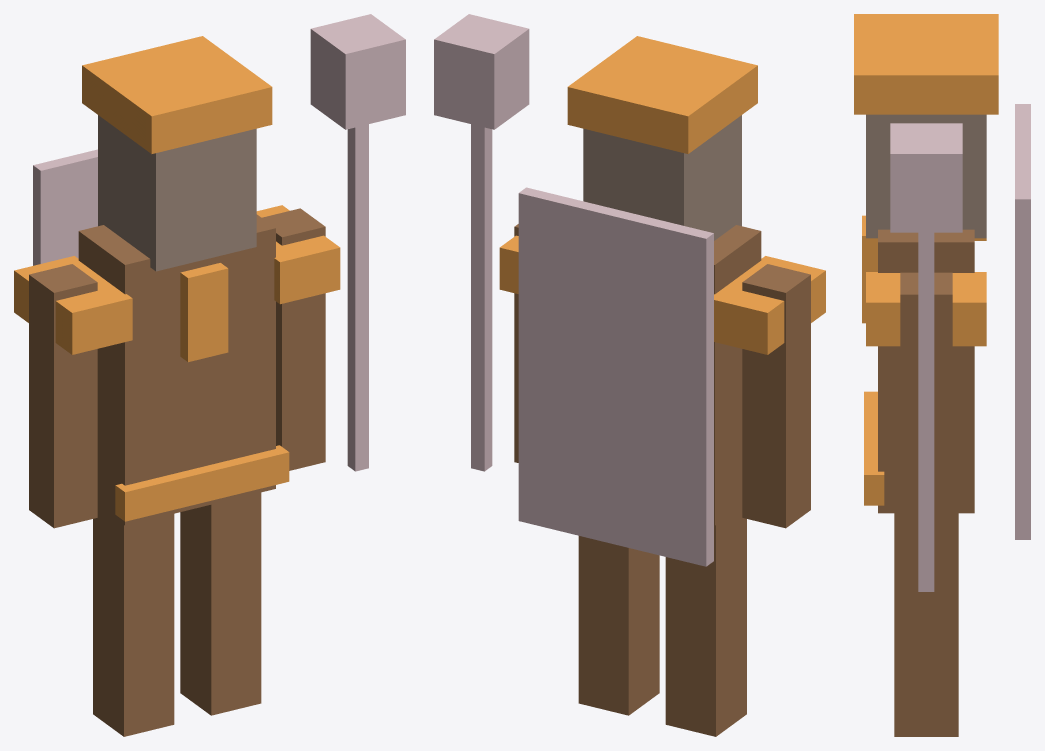
Rendered from 01_mirek_deepwell_mechanist_at_humming.glb.
3 views of the same model, side by side, from view 1: azimuth 30°, elevation 25°; view 2: azimuth 150°, elevation 25°; view 3: azimuth 270°, elevation 25° (orthographic). The views are drawn at different scales.
Parts seen in each view (by area): view 1: Mirek Deepwell, Mechanist at Humming; view 2: Mirek Deepwell, Mechanist at Humming; view 3: Mirek Deepwell, Mechanist at Humming.
Boxes of the visible parts, x1,y1,x2,y2 form: Mirek Deepwell, Mechanist at Humming: (14, 14, 405, 736); Mirek Deepwell, Mechanist at Humming: (434, 14, 825, 736); Mirek Deepwell, Mechanist at Humming: (854, 14, 1030, 736).
Bounding box in the file's own units: 0.9699 × 1.69 × 0.4123.
